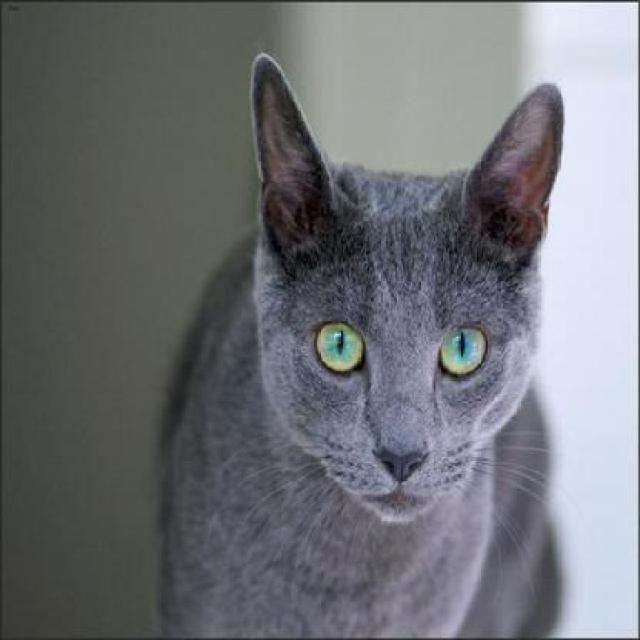cat: (155, 51, 567, 638)
